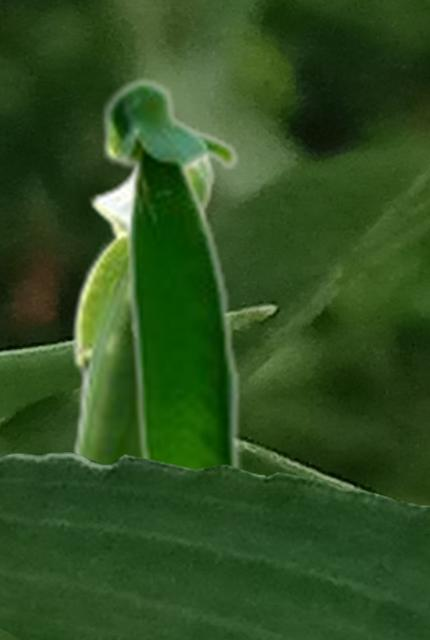pea: (99, 75, 241, 468), (68, 160, 216, 463)
